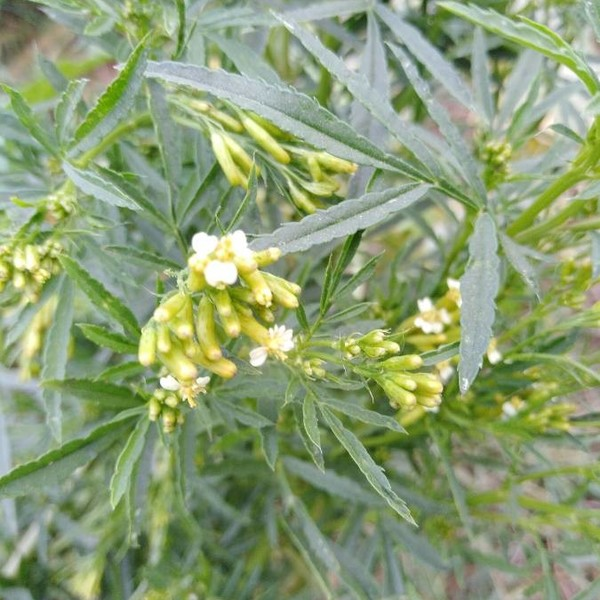obstacle: (35, 51, 512, 492)
